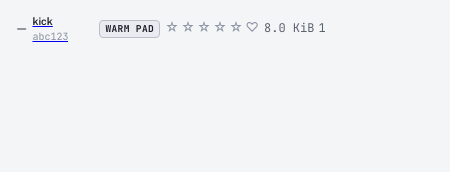
SampleRow › takes a hand label back when the field is emptied, leaving what the model heard showing
The image size is (450, 172).
Click the button with aria-label "Edit category".
click(130, 29)  # box [99,20,160,38]
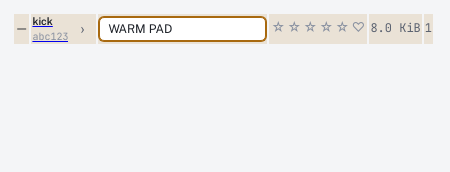
Clear the field named "Hand label" at (183, 29), box [99,17,266,41]
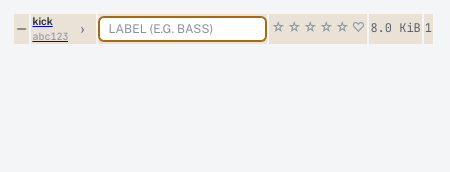
Press Enter
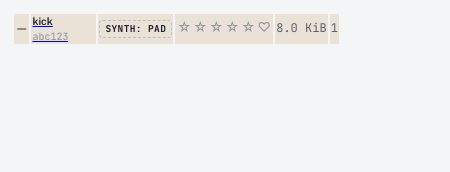
Expected: the text "SYNTH: PAD" is shown, [105,22,166,36]
